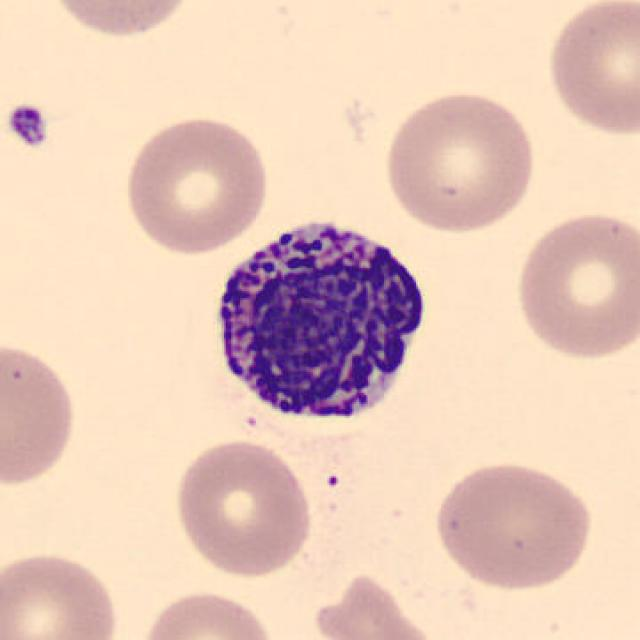Basophil: (199, 201, 439, 437)
Platelets: (4, 98, 52, 152)
RBC: (378, 85, 540, 236), (428, 457, 598, 594), (119, 111, 274, 257), (169, 436, 316, 580), (511, 204, 636, 365), (542, 0, 638, 139), (0, 333, 82, 490), (0, 546, 122, 640), (307, 567, 442, 640), (137, 585, 279, 640), (43, 0, 201, 41)
